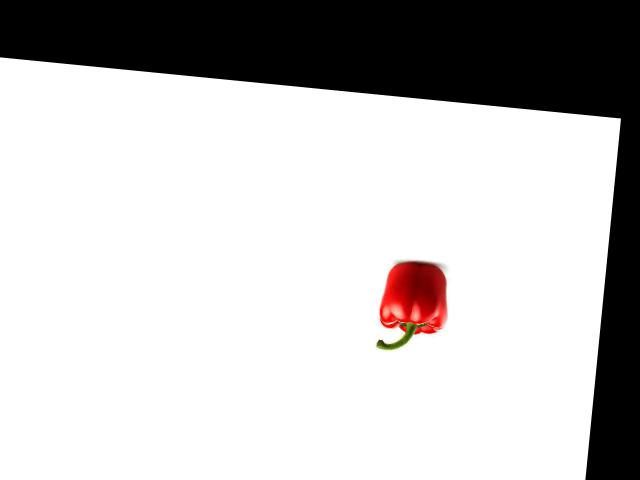bell_pepper: (373, 258, 450, 356)
